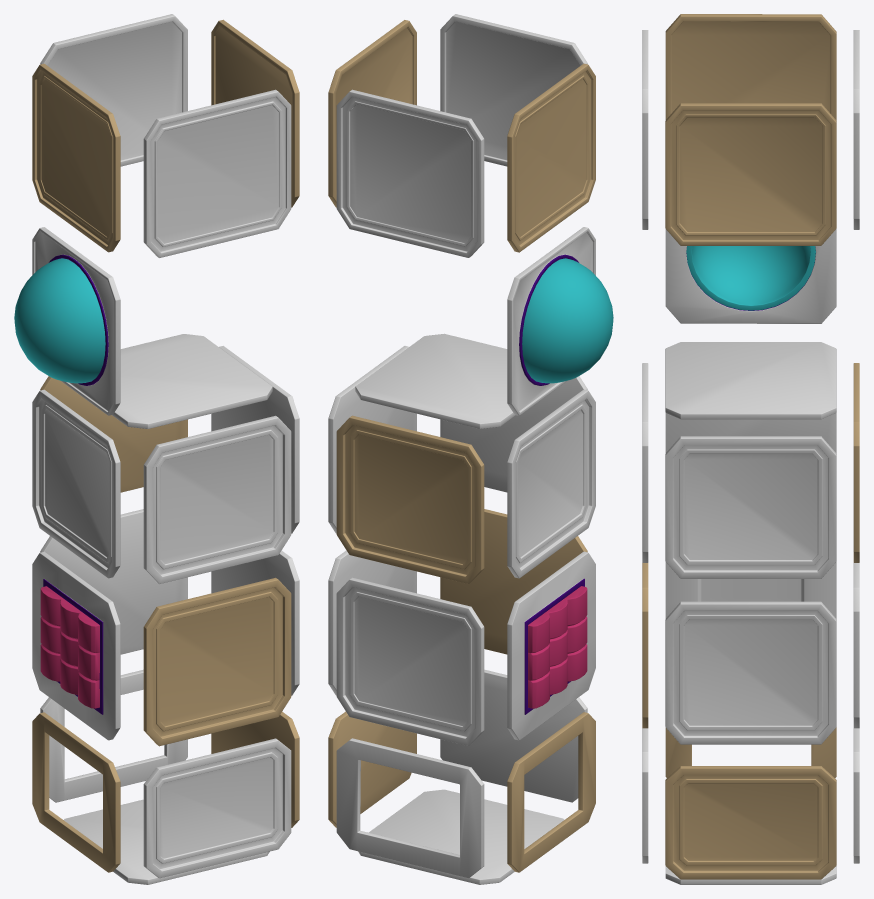
The model's file is planes_HP.fbx.
3 views of the same model, side by side, from view 1: azimuth 30°, elevation 25°; view 2: azimuth 150°, elevation 25°; view 3: azimuth 270°, elevation 25° (orthographic). The views are drawn at different scales.
Parts seen in each view (by area): view 1: planes_HP; view 2: planes_HP; view 3: planes_HP.
Part boxes in pixels (<box>): planes_HP: <box>14,14,299,884</box>; planes_HP: <box>328,14,613,884</box>; planes_HP: <box>642,14,859,884</box>.
Size of the model in its own units: 184 by 579 by 144.
